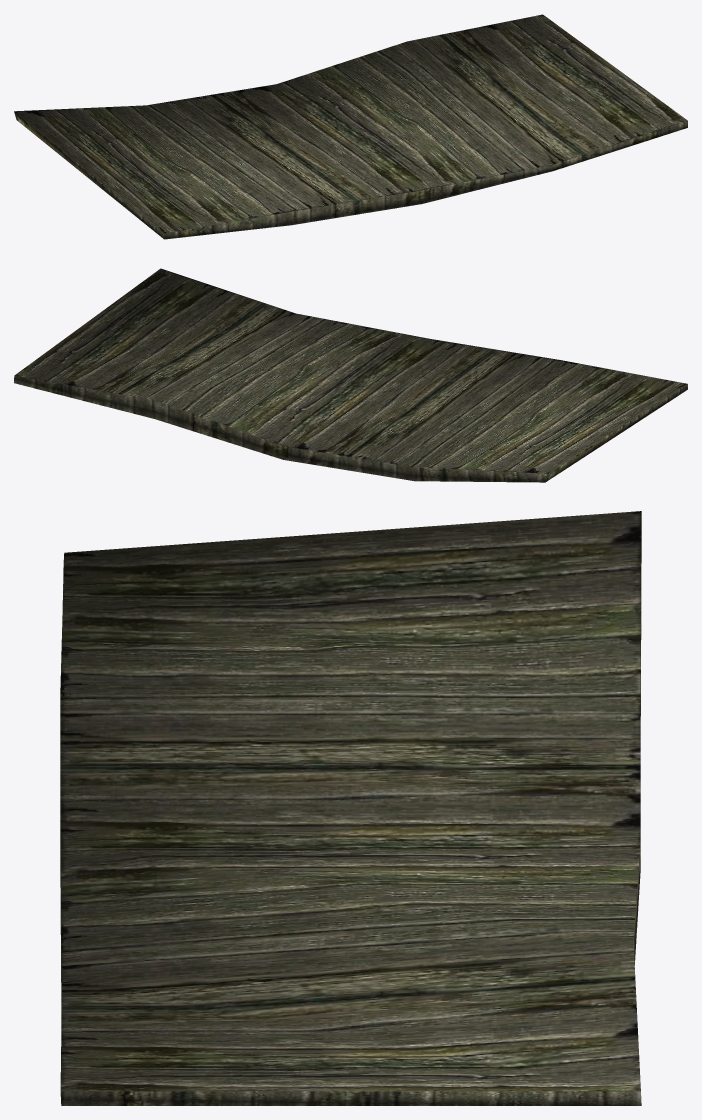
Rendered from MIN_LOB_PLANKS_3X11M.glb.
The picture shows the model from 3 angles, top to bottom: view 1: azimuth 30°, elevation 25°; view 2: azimuth 150°, elevation 25°; view 3: azimuth 270°, elevation 25°; orthographic projection. The views are drawn at different scales.
Parts seen in each view (by area): view 1: Mesh; view 2: Mesh; view 3: Mesh.
Boxes of the visible parts, x1,y1,x2,y2 form: Mesh: (14,14,687,239); Mesh: (14,268,687,482); Mesh: (60,511,641,1105).
Size of the model in its own units: 11.32 by 1.03 by 5.39.
Materials: 1 (1 with a texture image).
